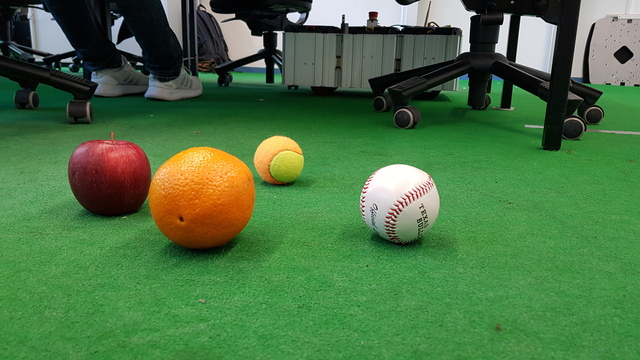013_apple: (66, 133, 153, 217)
017_orange: (147, 147, 256, 249)
055_baseball: (358, 163, 440, 244)
056_tennis_ball: (253, 135, 306, 186)
